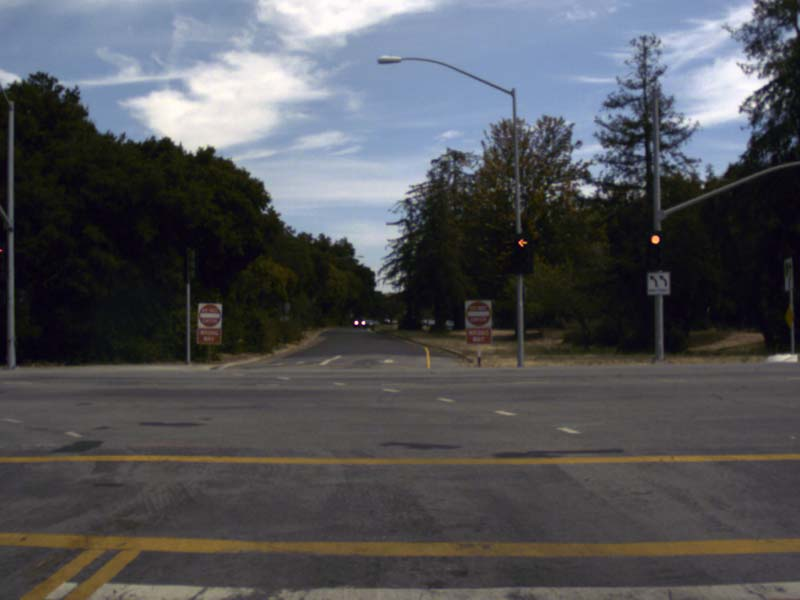Red: (514, 233, 533, 273), (645, 231, 665, 269)
